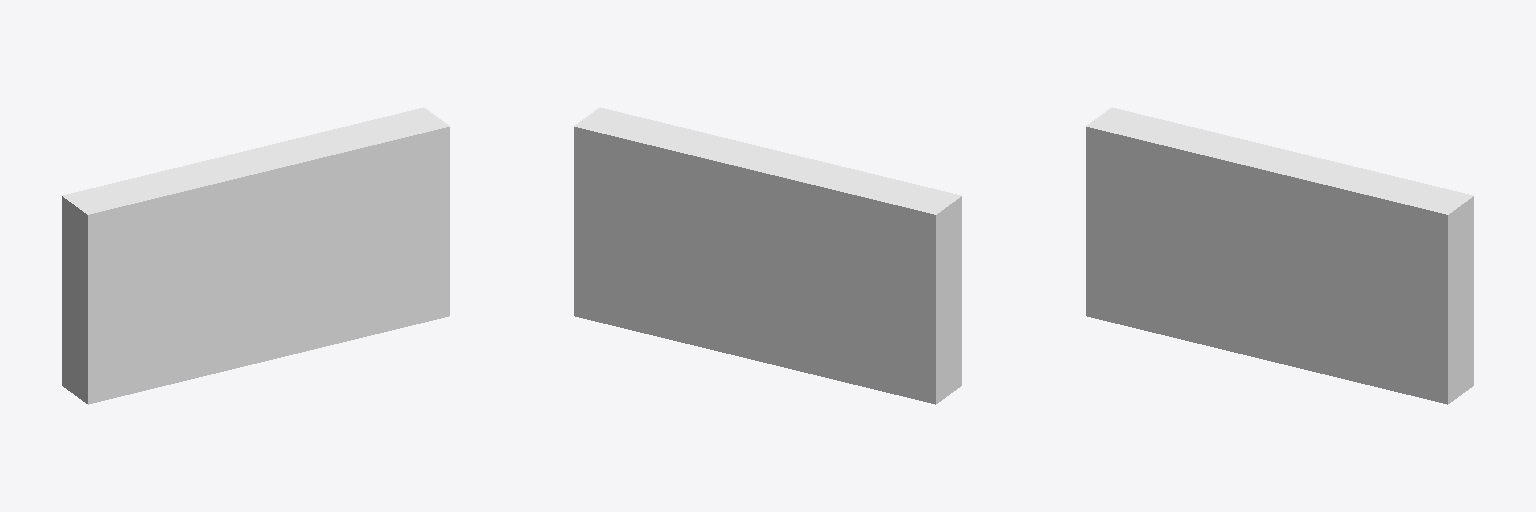
Rendered from obstacle2-2-base.obj.
3 renders of one model, left to right at view 1: azimuth 30°, elevation 25°; view 2: azimuth 150°, elevation 25°; view 3: azimuth 330°, elevation 25°, orthographic.
Parts seen in each view (by area): view 1: base; view 2: base; view 3: base.
Part boxes in pixels (bbox=[...]): base: bbox=[62, 107, 449, 404]; base: bbox=[574, 107, 961, 404]; base: bbox=[1086, 107, 1473, 404].
Size of the model in its own units: 4 by 2 by 0.5.